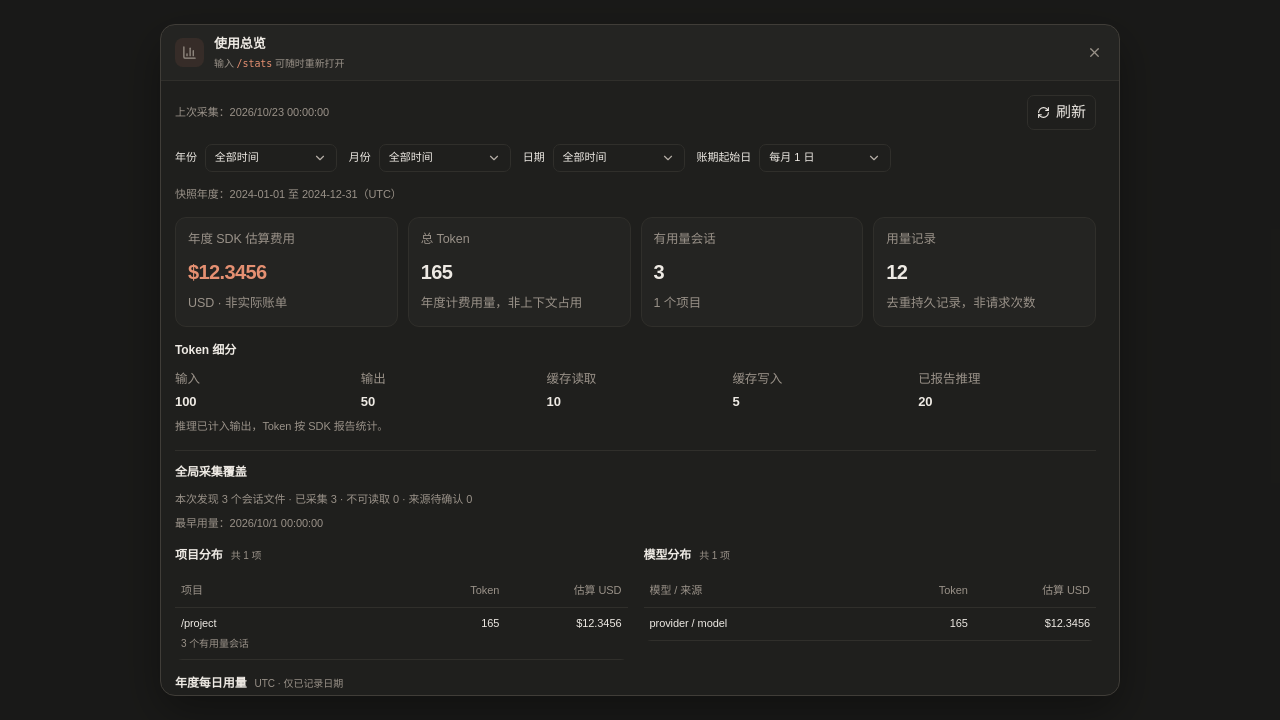
Test: UsageOverviewModal local snapshot lifecycle › labels natural UTC years and days from returned periods without truncating the 366 recorded days
Expected: the element named "已记录年度使用数据" shows "年度 SDK 估算费用", x1=175 y1=217 x2=1096 y2=326
Expected: the text "快照年度：2024-01-01 至 2024-12-31（UTC）" does not show "每月", x1=175 y1=188 x2=402 y2=200
Click the button "刷新" at (1062,112), box x1=1027 y1=95 x2=1096 y2=130
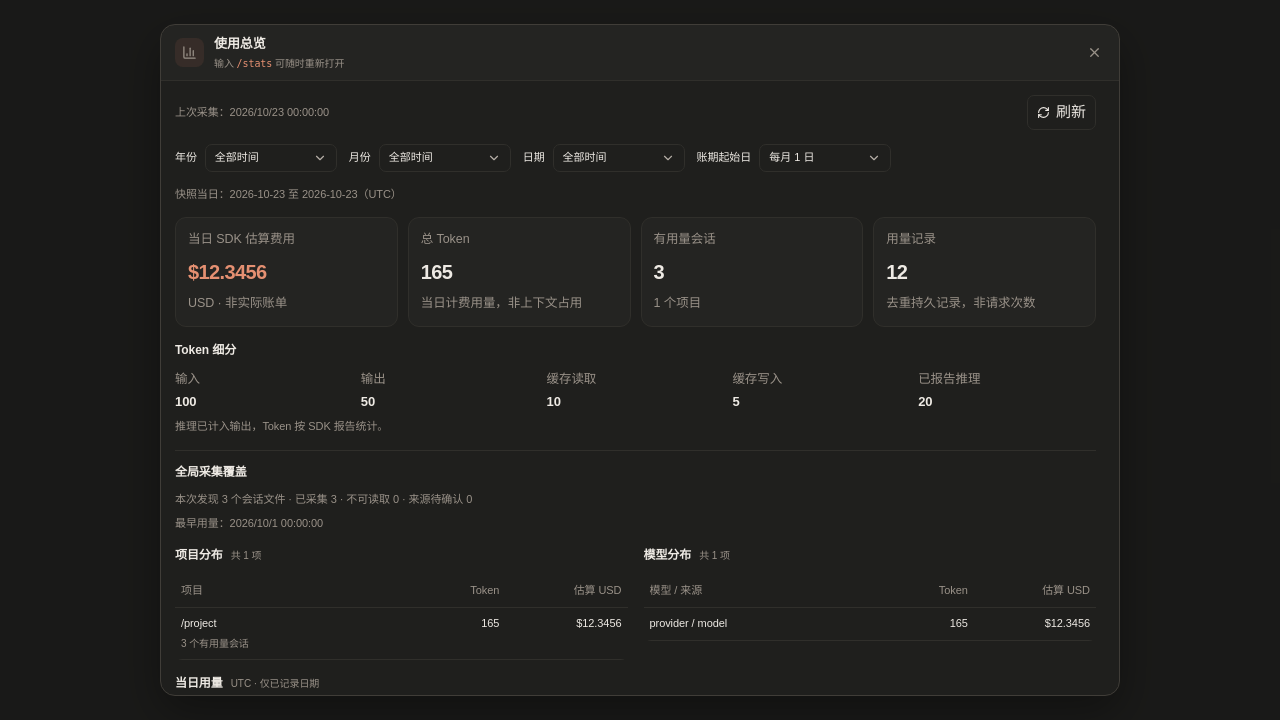
Expected: the text "快照当日：2026-10-23 至 2026-10-23（UTC）" does not show "每月", x1=175 y1=188 x2=402 y2=200
Now the element named "已记录当日使用数据" shows "当日 SDK 估算费用", box x1=175 y1=217 x2=1096 y2=326
Now the text "快照当日：2026-10-23 至 2026-10-23（UTC）" is shown, box x1=175 y1=188 x2=402 y2=200
